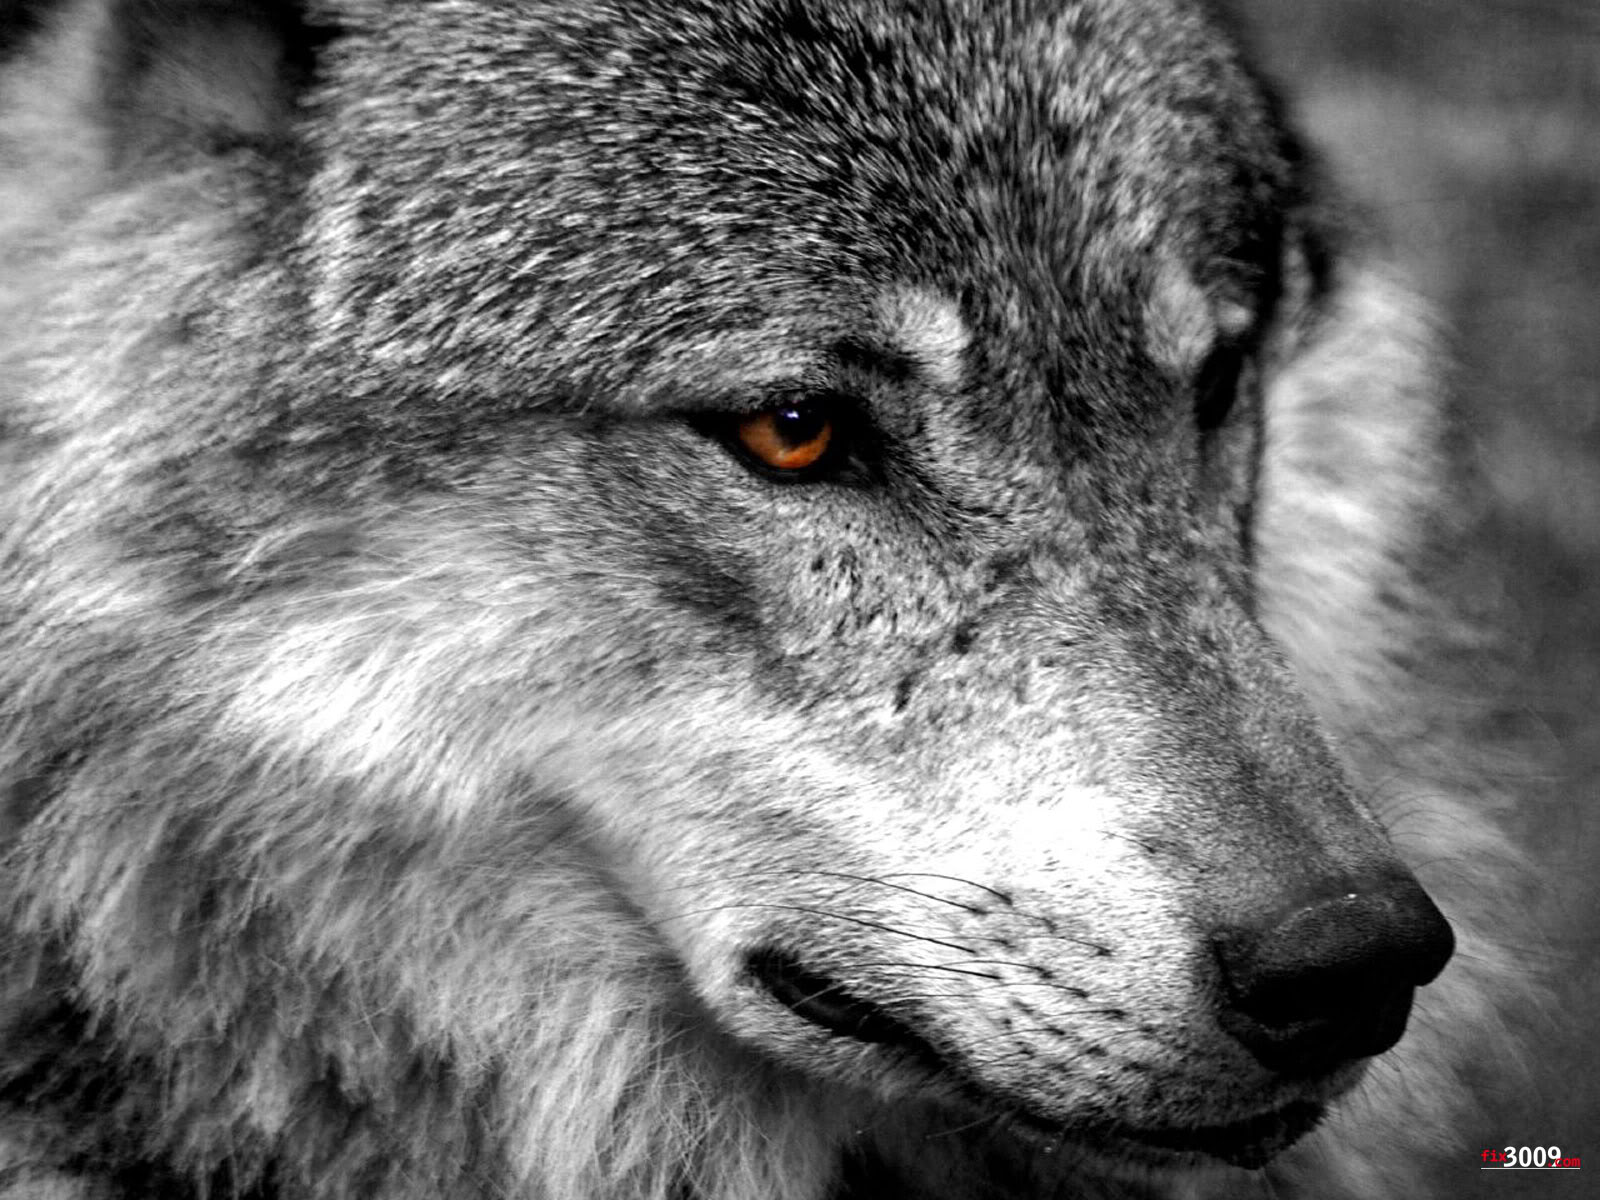Lobo: (71, 1, 1469, 1176)
